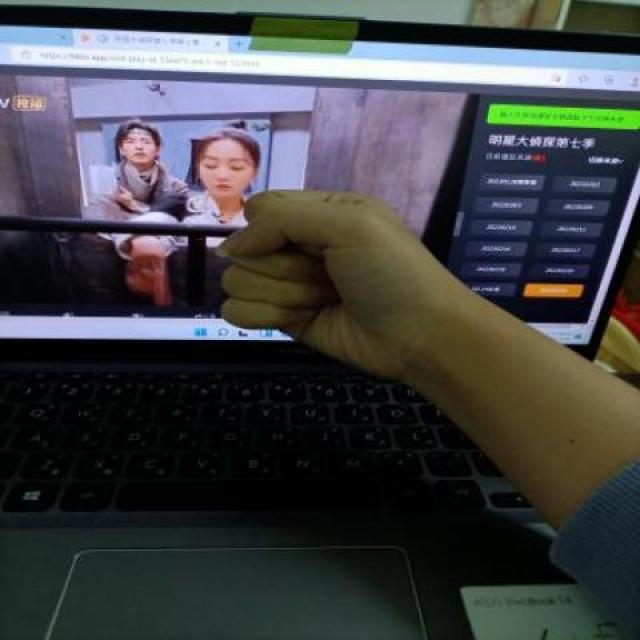Closed Hand: (211, 173, 458, 399)
